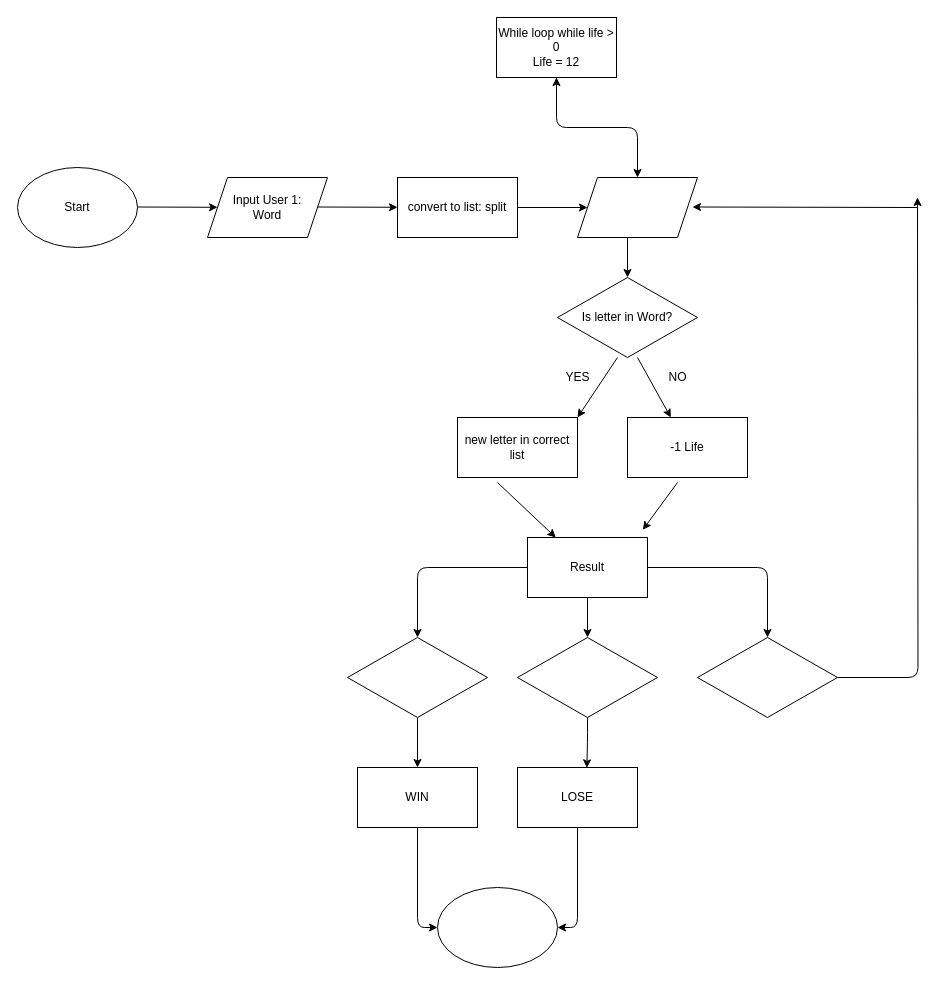
The diagram is 944 pixels wide and 985 high, and some of its shapes have lost their labels. The centre of each missing label's shape, as x and y in pixels:
All letters of word?: point (417, 677)
END: point (497, 927)
Input User 2: Letter: point (637, 207)
Life = 0?: point (587, 677)
Not all letters in word? Or life > 0: point (767, 677)
